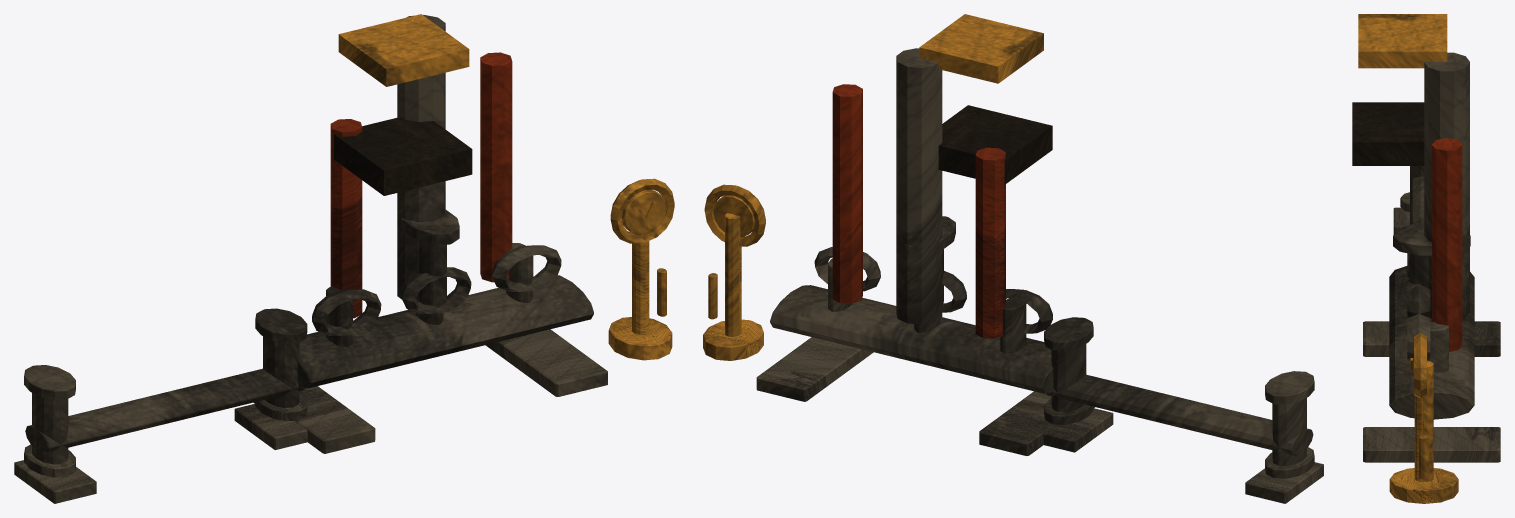
The model's file is garden-pressure-manifold.glb.
3 views of the same model, side by side, from view 1: azimuth 30°, elevation 25°; view 2: azimuth 150°, elevation 25°; view 3: azimuth 270°, elevation 25° (orthographic). The views are drawn at different scales.
Parts seen in each view (by area): view 1: garden-pressure-manifold; view 2: garden-pressure-manifold; view 3: garden-pressure-manifold.
Part boxes in pixels (bbox=[...]): garden-pressure-manifold: bbox=[14, 14, 674, 503]; garden-pressure-manifold: bbox=[703, 14, 1323, 503]; garden-pressure-manifold: bbox=[1352, 14, 1500, 503].
Bounding box in the file's own units: 8.95 × 5 × 1.94.
Materials: 1 (1 with a texture image).
